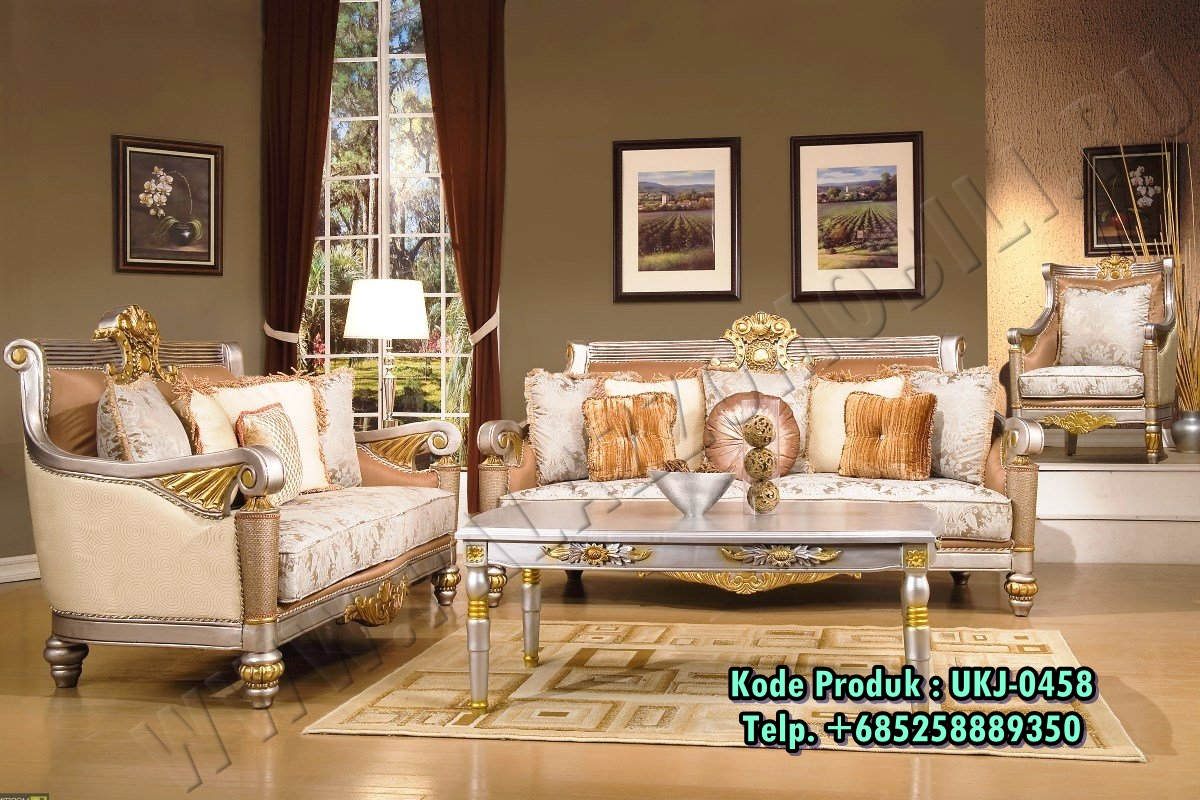Carving Chair: (11, 319, 466, 691), (992, 248, 1188, 475)
Carving Table: (465, 500, 934, 717)
